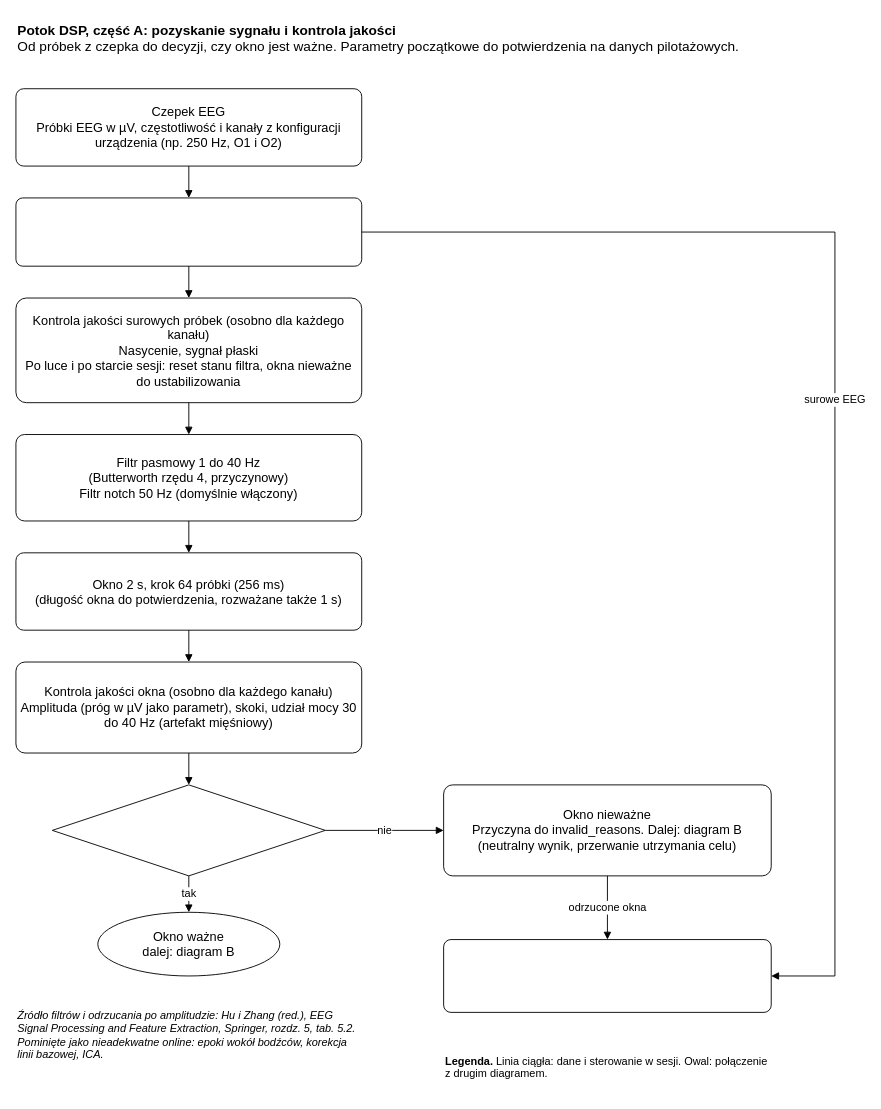
Image size: 881x1109. Some labels were removed from this diagram. Here are the shapes that lost their labels. From the top down, the centre of each, then its label:
At pixel 188 231: "Bufor i znaczniki czasu Wykrycie luki w ciągłości (utrata pakietów, przerwa)".
At pixel 188 830: "Okno ważne? (oba kanały przechodzą wszystkie kontrole)".
At pixel 607 975: "Zapis: surowe EEG do pliku zawsze, odrzucone okna i ich przyczyny do bazy".
